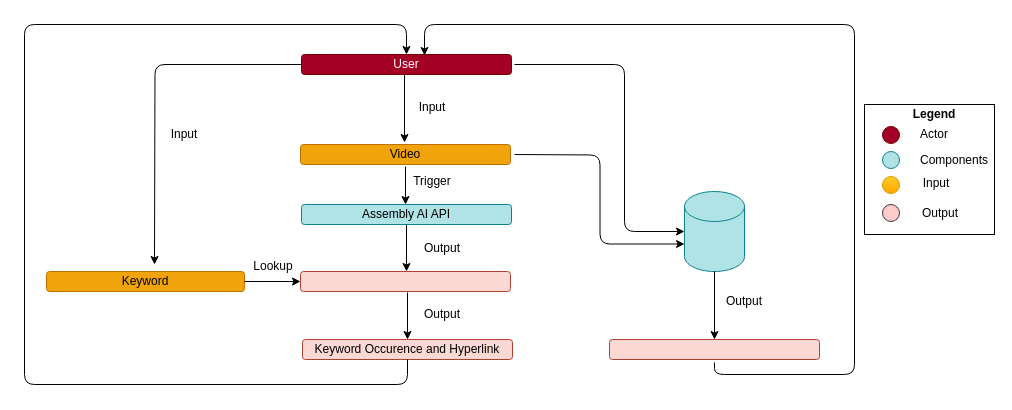
Image size: 1012x410. Some labels were removed from this diagram. Here are the shapes that lost their labels. From the top down, the box of each, then its label:
(684, 190, 744, 272): DB
(300, 270, 510, 292): Transcript
(608, 338, 820, 360): Video History
